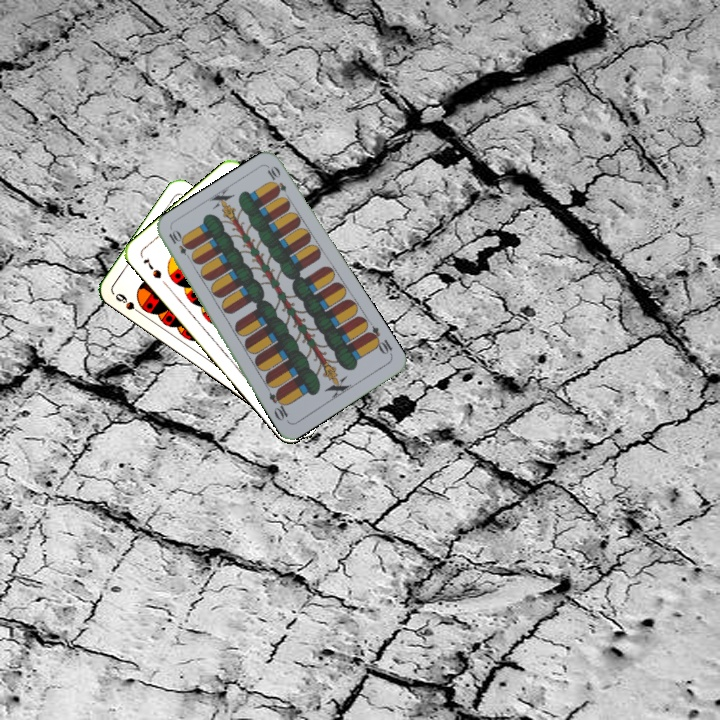E10: (363, 322, 395, 359), (165, 226, 195, 263)
S7: (139, 253, 164, 281)
S9: (111, 289, 146, 318)
